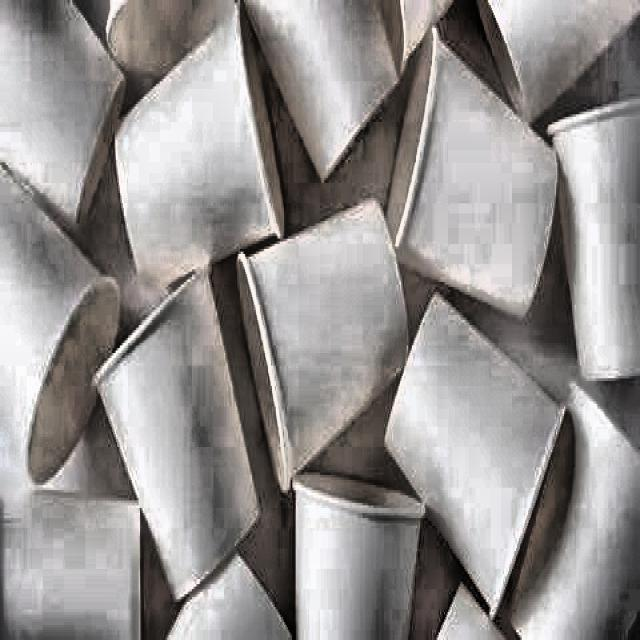Cup: (384, 286, 566, 631), (236, 184, 426, 502), (93, 270, 269, 593), (104, 3, 294, 298), (383, 28, 562, 341), (540, 102, 640, 424), (282, 471, 467, 640)
